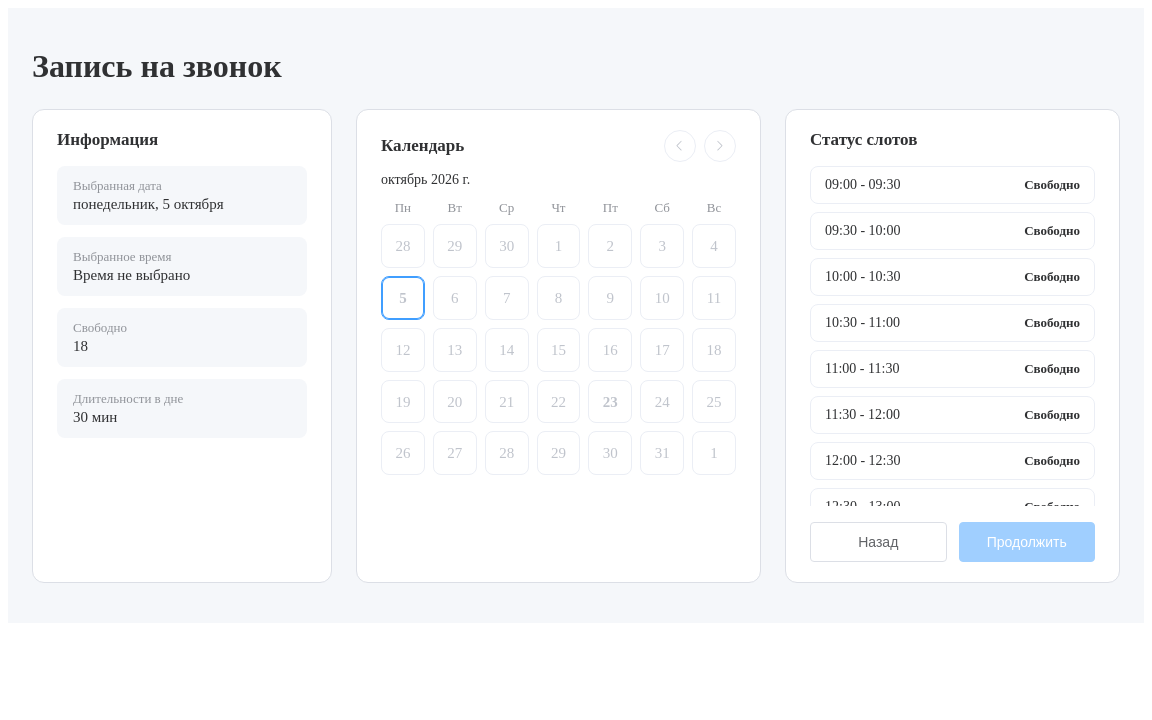
Scenario: BookingPage › does not submit without a contact
Click the button with class "slot" showing "10:00 - 10:30 Свободно": coordinates (863, 276) [810,258,1095,296]
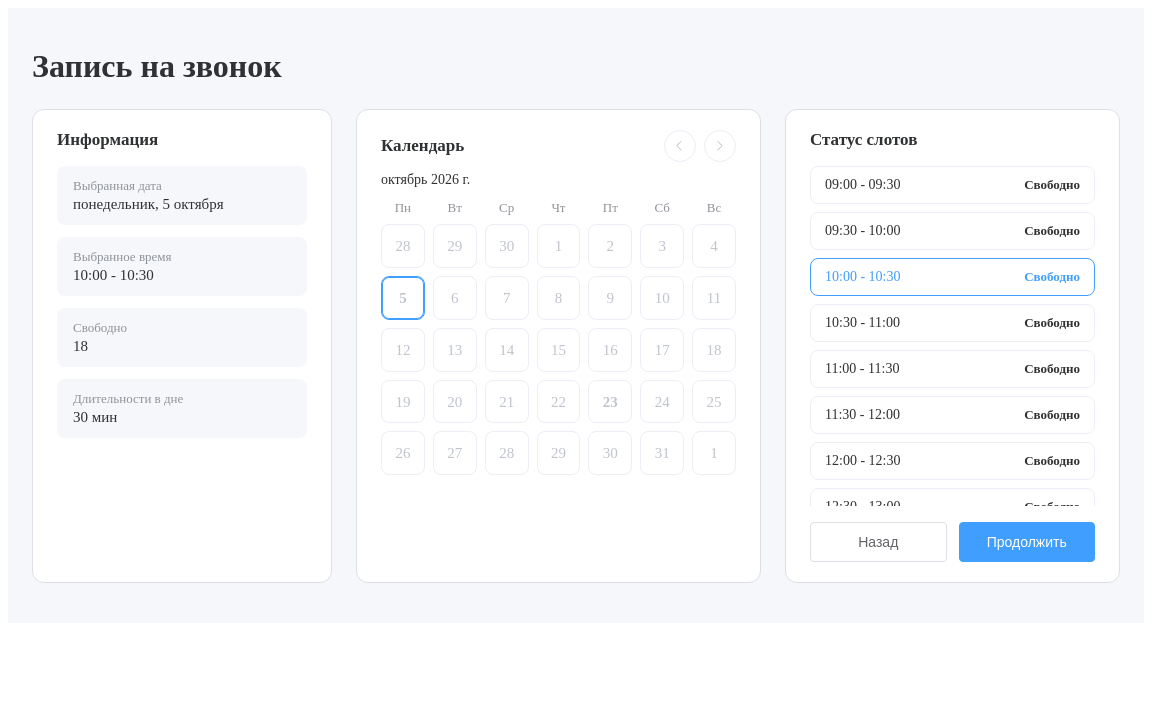
Click the button "Продолжить": coordinates (1027, 542) [958,522,1095,562]
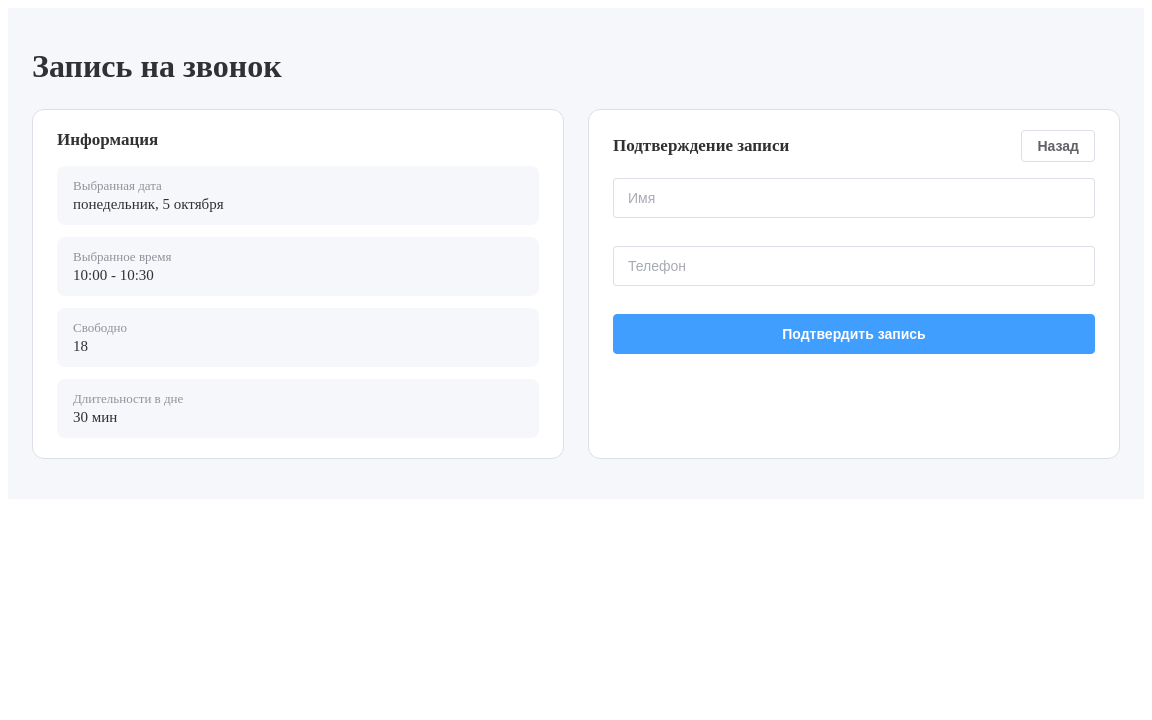
Submit the form, box [613,178,1095,354]
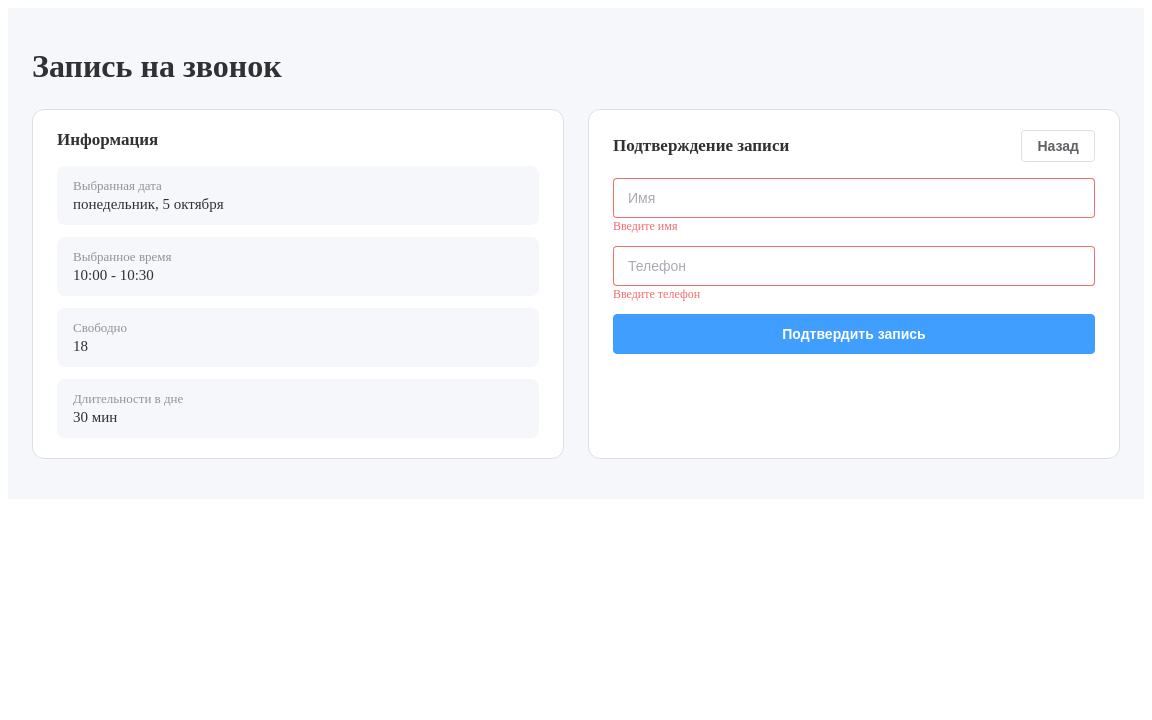
Now the text "Введите имя" is shown, box [613,218,677,232]
